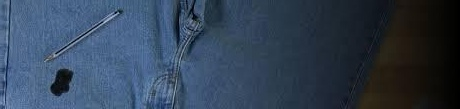ink: (51, 68, 73, 95)
